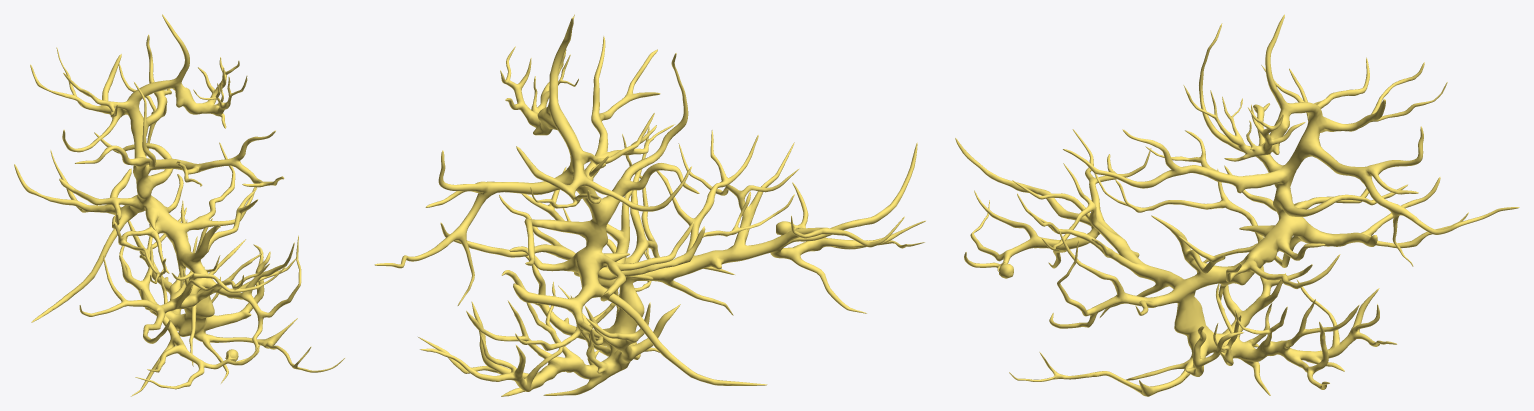
Rendered from RootMain.glb.
The picture shows the model from 3 angles, left to right: view 1: azimuth 30°, elevation 25°; view 2: azimuth 150°, elevation 25°; view 3: azimuth 270°, elevation 25°; orthographic projection. The views are drawn at different scales.
Parts seen in each view (by area): view 1: Root; view 2: Root; view 3: Root.
Boxes of the visible parts, x1=… form: Root: x1=14, y1=14, x2=344, y2=396; Root: x1=374, y1=14, x2=925, y2=396; Root: x1=955, y1=14, x2=1519, y2=396.
Size of the model in its own units: 3.08 by 3.38 by 4.65.
